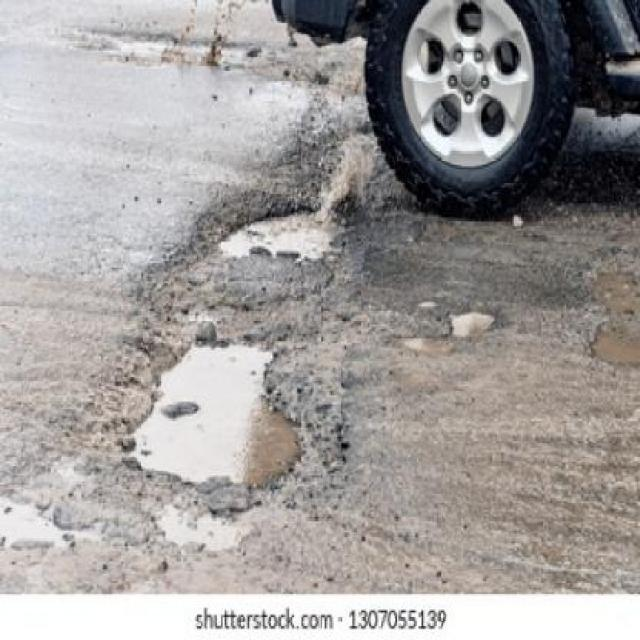Pothole: (57, 25, 510, 556)
